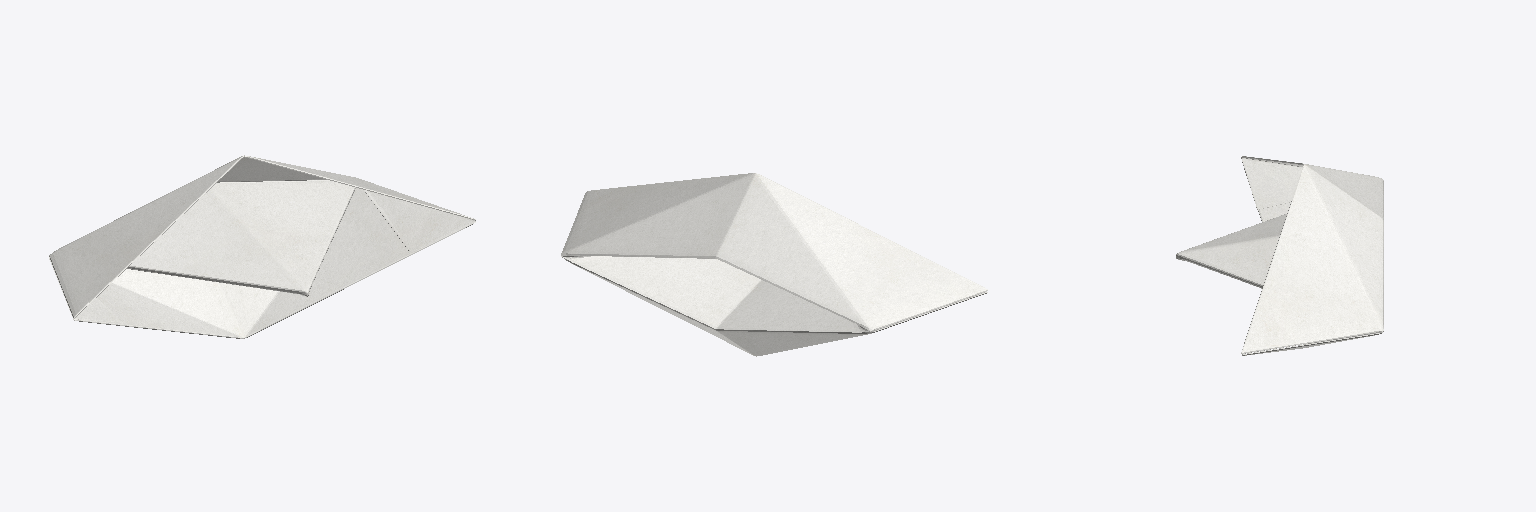
The picture shows the model from 3 angles: view 1: azimuth 30°, elevation 25°; view 2: azimuth 150°, elevation 25°; view 3: azimuth 270°, elevation 25°; orthographic projection.
Parts seen in each view (by area): view 1: body_boat01; view 2: body_boat01; view 3: body_boat01.
Boxes of the visible parts, <box> form: body_boat01: <box>49,155,475,338</box>; body_boat01: <box>561,173,987,356</box>; body_boat01: <box>1176,156,1383,355</box>.
Size of the model in its own units: 14.74 by 6.41 by 6.61.
1 materials, 1 textured.